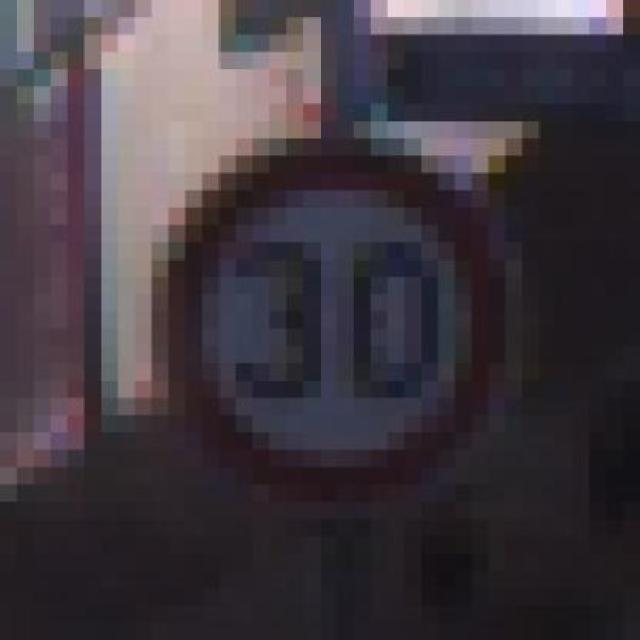Speed Limit 30 KMPh: (118, 121, 522, 553)
